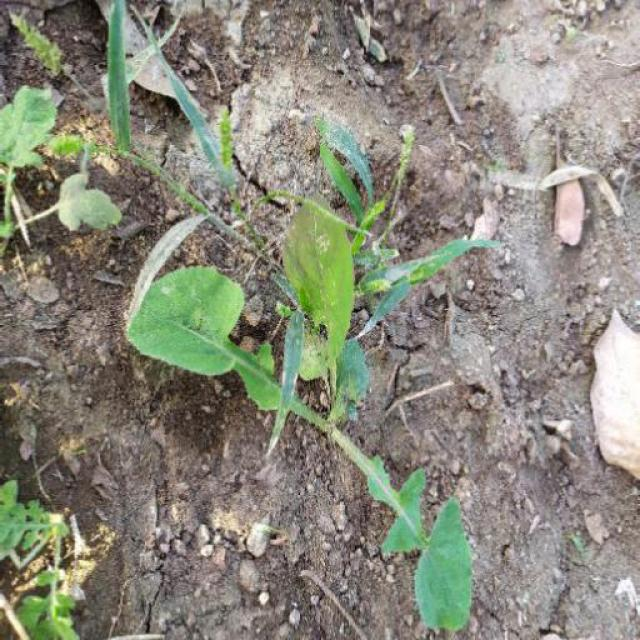weed: (22, 45, 542, 635)
